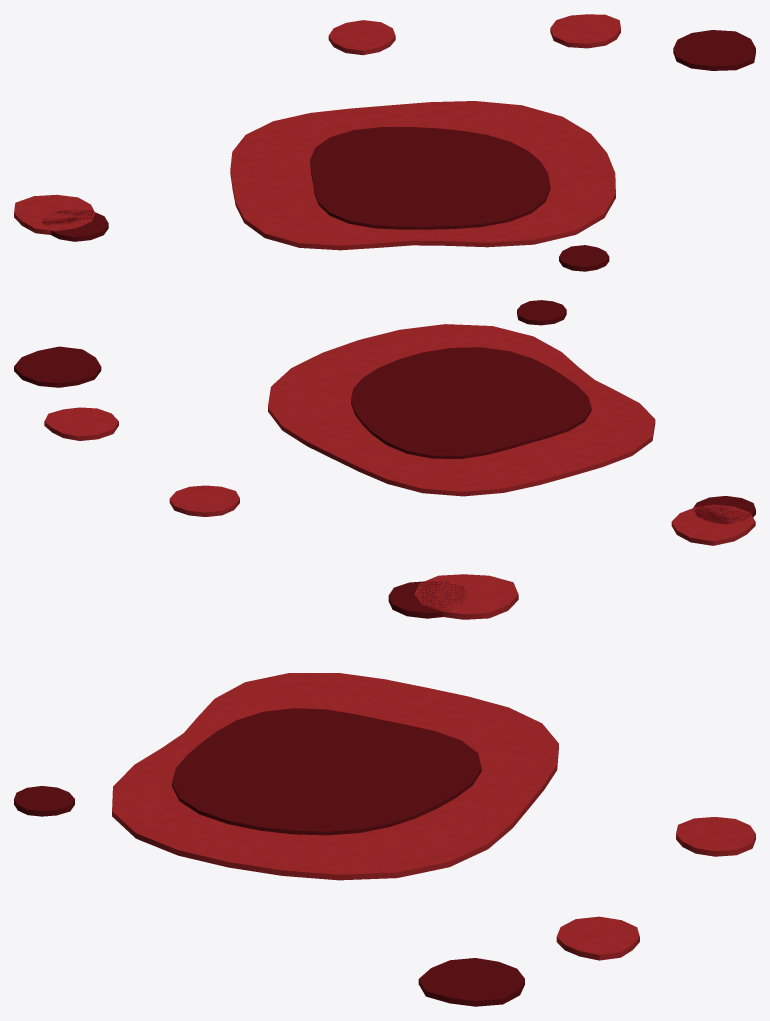
File: Furn_Trace_BloodSpot.fbx
3 views of the same model, one above another, from view 1: azimuth 30°, elevation 25°; view 2: azimuth 150°, elevation 25°; view 3: azimuth 270°, elevation 25° (orthographic). The views are drawn at different scales.
Visible parts, largest first — view 1: Trace_BloodSpot; view 2: Trace_BloodSpot; view 3: Trace_BloodSpot.
Part boxes in pixels (<box>): Trace_BloodSpot: <box>14,14,755,271</box>; Trace_BloodSpot: <box>14,300,755,545</box>; Trace_BloodSpot: <box>14,574,755,1006</box>.
Size of the model in its own units: 0.2481 by 0.0025 by 0.1822.
Materials: 2 (2 with a texture image).
